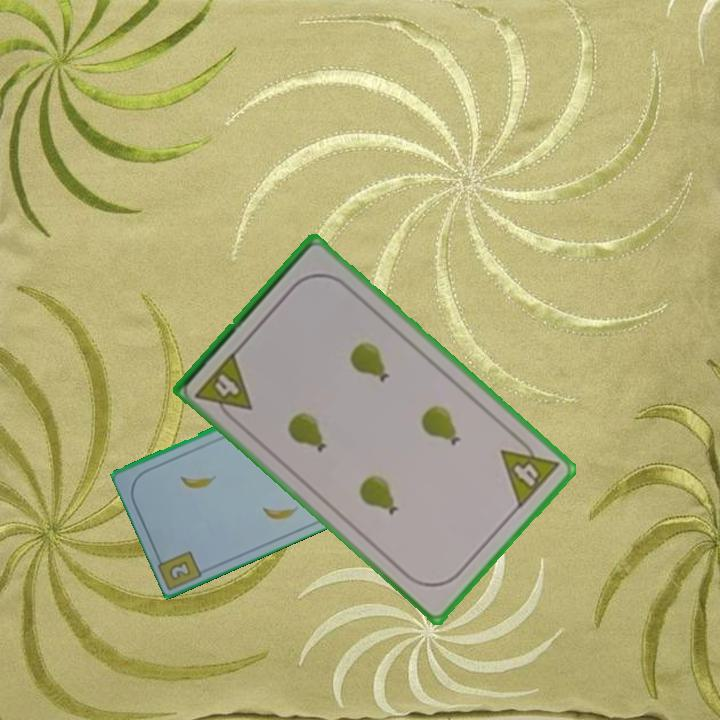2b: (165, 557, 194, 583)
4p: (497, 431, 563, 512), (192, 348, 256, 426)
